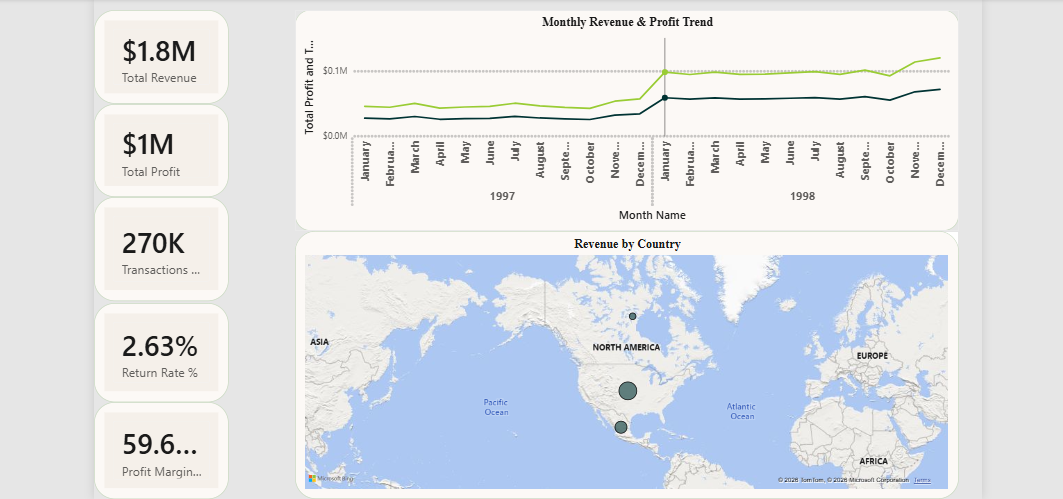

The dashboard page shown, as its layout file describes it:
{"tool":"powerbi","page":{"name":"Executive Overview","canvas":[1280,720],"ordinal":0},"visuals":[{"type":"cardVisual","fields":{"Data":["Transactions.Total Sales"]},"box":[0,15.8,194.4,135.4],"z":0},{"type":"cardVisual","fields":{"Data":["Transactions.Total Profit"]},"box":[0,151.2,194.4,133.9],"z":2},{"type":"cardVisual","fields":{"Data":["Transactions.Total Transactions"]},"box":[0,285.1,194.4,149.8],"z":3},{"type":"cardVisual","fields":{"Data":["Transactions.Return Rate"]},"box":[0,437.8,194.4,142.6],"z":4},{"type":"cardVisual","fields":{"Data":["Transactions.Profit Margin"]},"box":[0,580.3,194.4,139.7],"z":5},{"type":"lineChart","title":"Monthly Revenue & Profit Trend","fields":{"Y":["Fact_Transactions.Total Profit","Transactions.Total Sales"],"Category":["Dim_Calendar.Year ","Dim_Calendar.Month Name"]},"box":[289.4,15.8,956.2,318.2],"z":6},{"type":"map","title":"Revenue by Country","fields":{"Category":["MavenMarket_Stores.store_country","Dim_Regions.sales_region","Dim_Stores.store_name"],"Size":["Transactions.Total Sales"]},"box":[289.8,333.7,955.6,386.3],"z":10}]}

Visuals, with their boxes on the page's 1280x720 design canvas (x1, y1, x2, y2). These are canvas units, not pixel positions in the 1063x499 screenshot, which may show the page scaled, cropped or inside an application window:
cardVisual - Transactions.Total Sales: <region>0, 16, 194, 151</region>
cardVisual - Transactions.Total Profit: <region>0, 151, 194, 285</region>
cardVisual - Transactions.Total Transactions: <region>0, 285, 194, 435</region>
cardVisual - Transactions.Return Rate: <region>0, 438, 194, 580</region>
cardVisual - Transactions.Profit Margin: <region>0, 580, 194, 720</region>
"Monthly Revenue & Profit Trend" lineChart: <region>289, 16, 1246, 334</region>
"Revenue by Country" map: <region>290, 334, 1245, 720</region>
